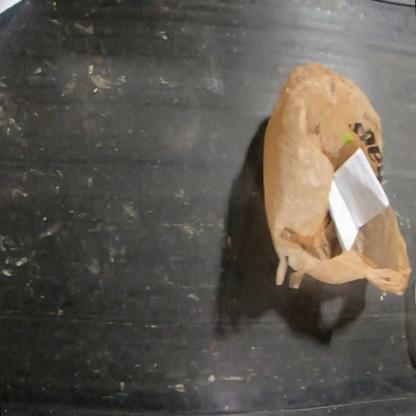soft_plastic: (262, 62, 412, 297)
